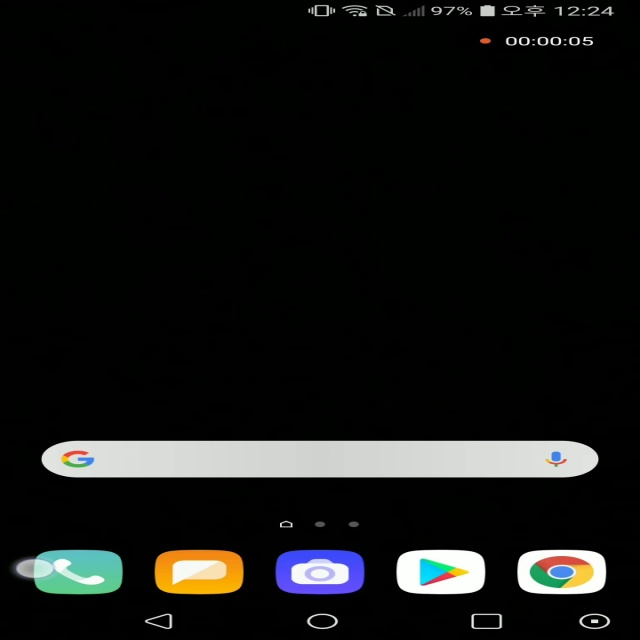Cursor: (14, 557, 58, 580)
